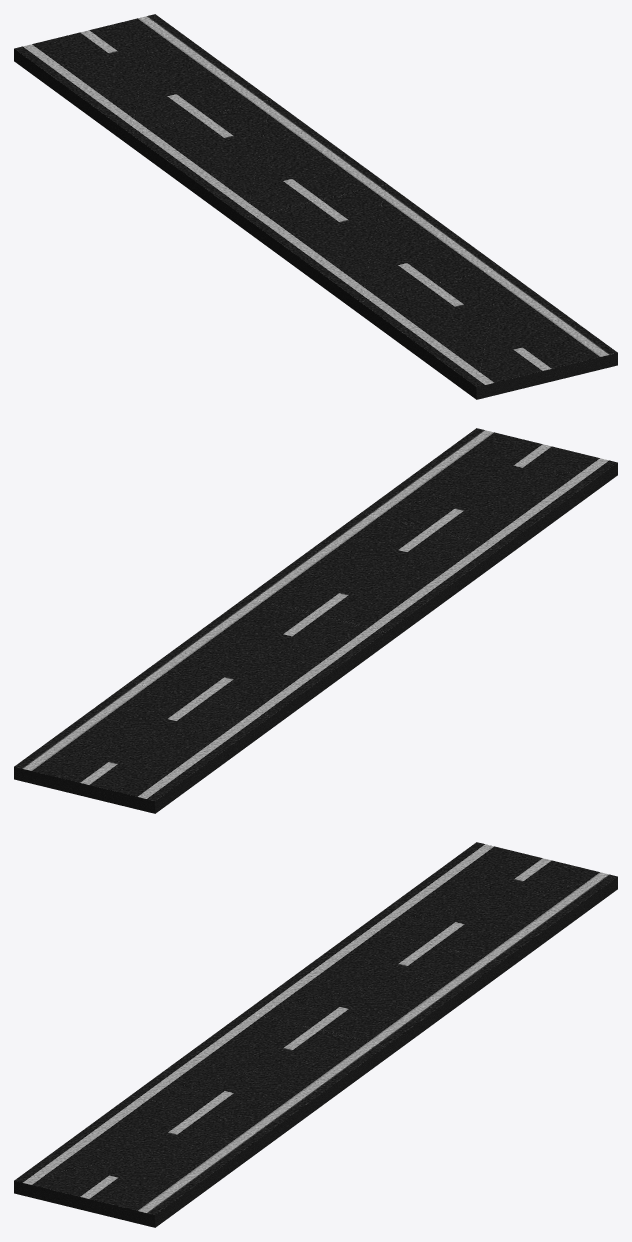
Rendered from road.FBX.
3 views of the same model, one above another, from view 1: azimuth 30°, elevation 25°; view 2: azimuth 150°, elevation 25°; view 3: azimuth 330°, elevation 25° (orthographic).
Parts seen in each view (by area): view 1: road; view 2: road; view 3: road.
Boxes of the visible parts, bbox=[...] form: road: bbox=[14, 14, 617, 399]; road: bbox=[14, 428, 617, 813]; road: bbox=[14, 842, 617, 1227].
Size of the model in its own units: 173 by 980 by 27.02.
2 materials, 2 textured.
